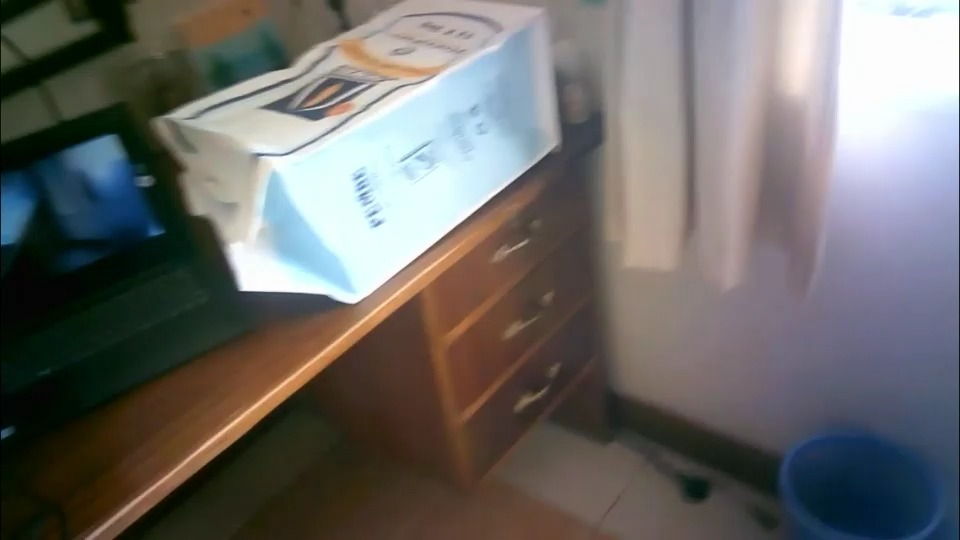wheat_flour_blue_label: (152, 0, 567, 309)
